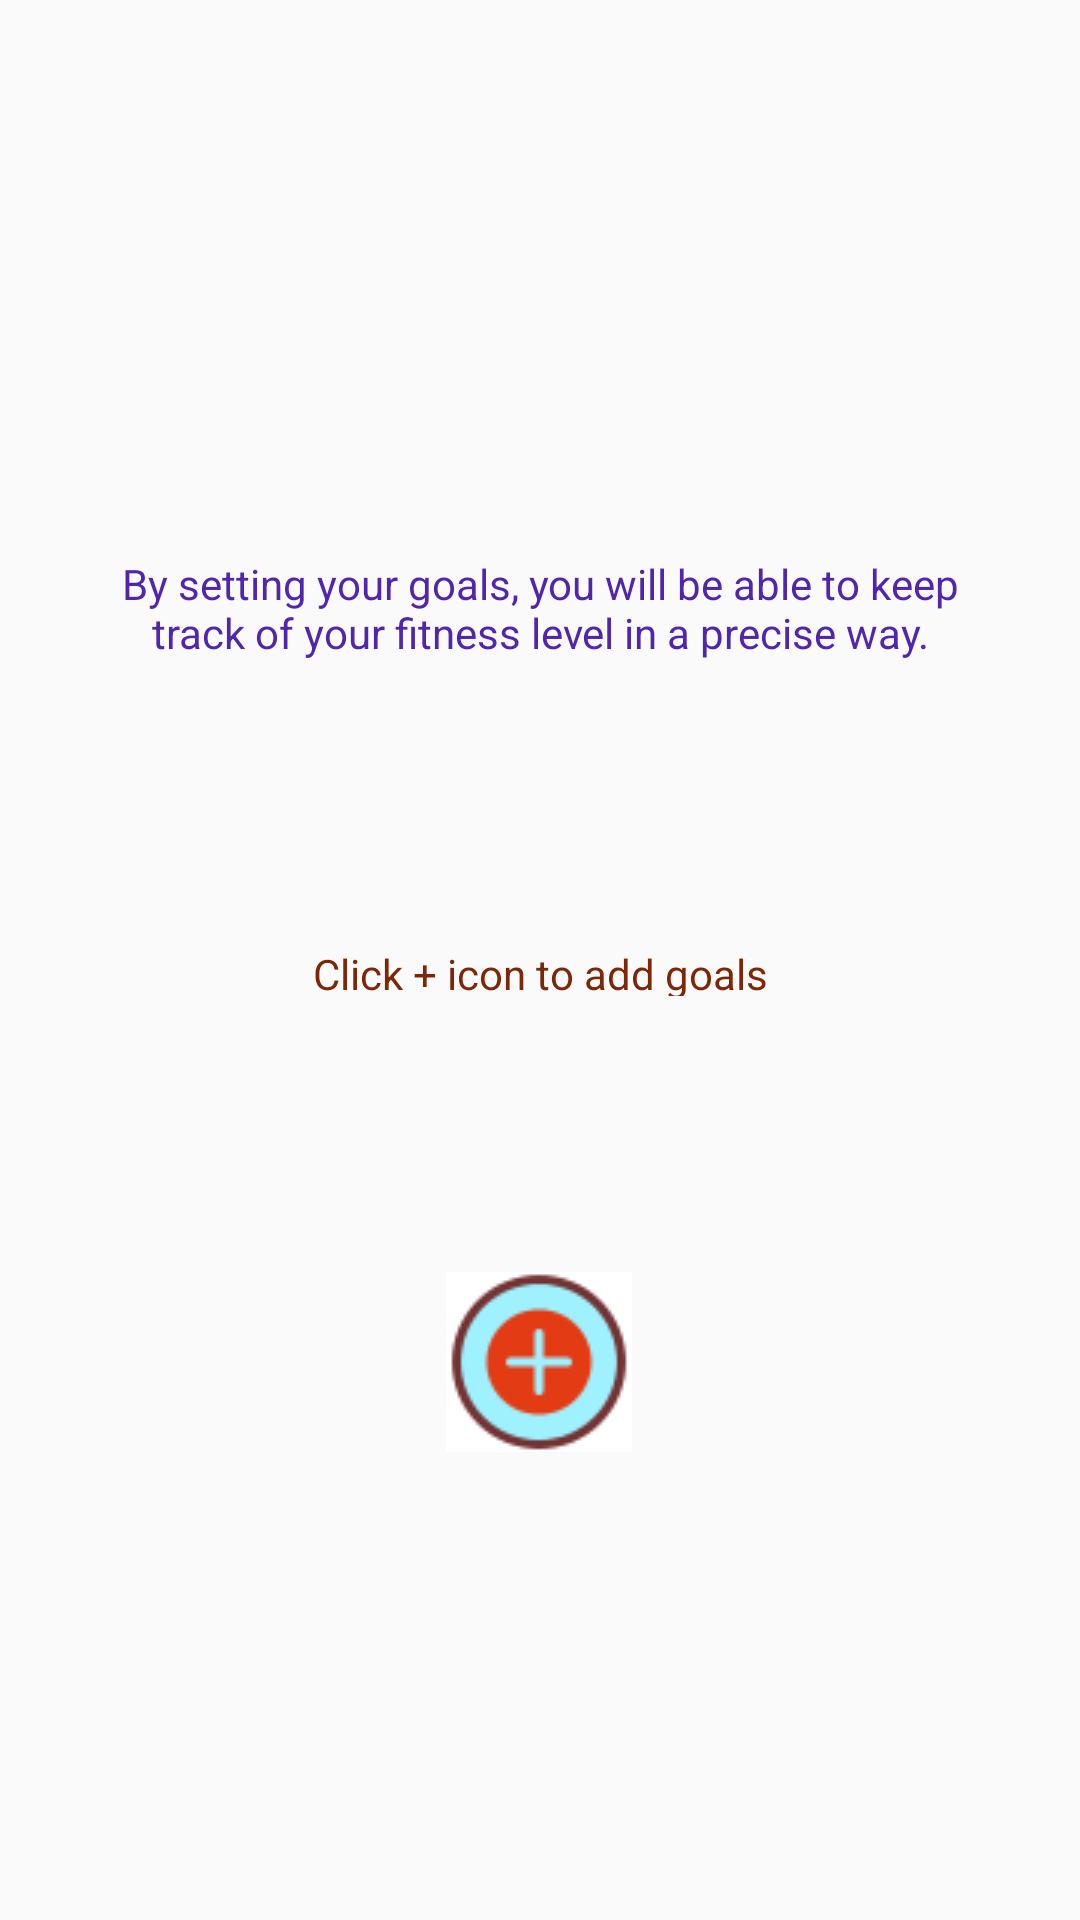

Named icons in this screenshot (1080 x 1920) and their centers, (x=x, y=y):
add: (x=539, y=1362)
